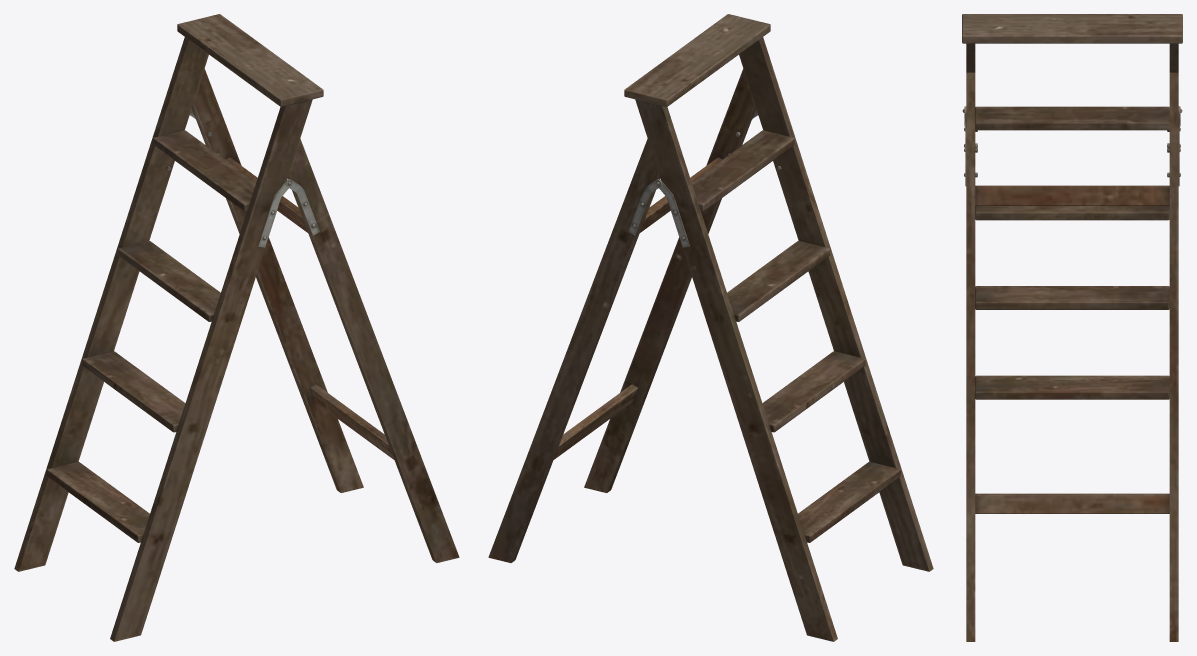
File: ladder.glb
3 renders of one model, left to right at view 1: azimuth 30°, elevation 25°; view 2: azimuth 150°, elevation 25°; view 3: azimuth 270°, elevation 25°, orthographic. The views are drawn at different scales.
Parts seen in each view (by area): view 1: wooden_ladder_supports; view 2: wooden_ladder_supports; view 3: wooden_ladder_supports.
Part boxes in pixels (bbox=[...]): wooden_ladder_supports: bbox=[14, 14, 459, 641]; wooden_ladder_supports: bbox=[488, 14, 933, 641]; wooden_ladder_supports: bbox=[962, 14, 1182, 641].
Size of the model in its own units: 0.9591 by 1.33 by 0.5.
1 material, 1 textured.
